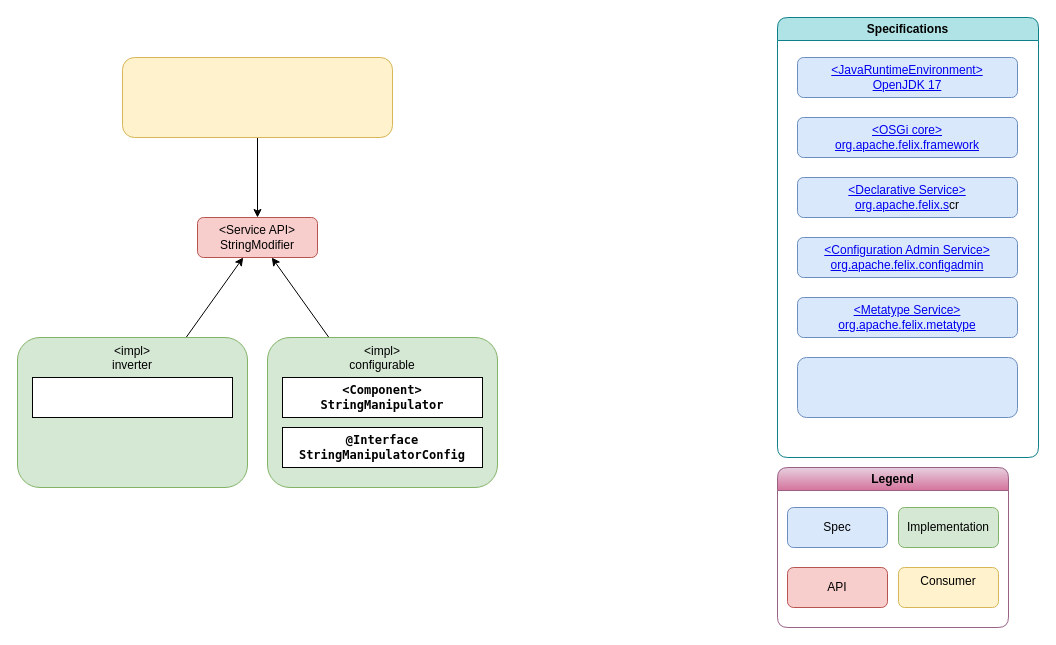
The diagram is 1056 pixels wide and 645 high, and some of its shapes have lost their labels. The shapes that lost their labels are listed below. From the top down, each one's centre as x and y in pixels, then its label:
(257,97): <gogo> StringCommand
(132,397): <Component> StringInverterImpl
(907,387): <Http Service Specification> org.apach.felix.http.servlet-api
